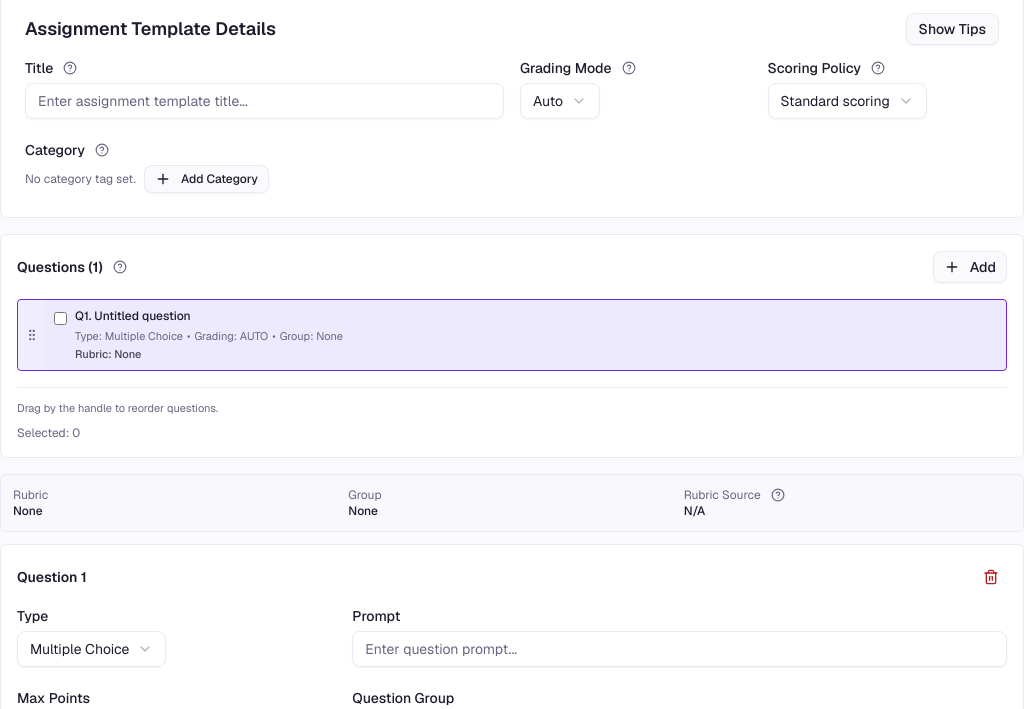
Test: AssignmentTemplateBuilderForm › updates title and clears title error
The width and height of the screenshot is (1024, 709).
Note: Submit to trigger title error
Type "Q1?" into the field with placeholder "Enter question prompt...".
click(680, 649); type("Q1?")  # box [352,631,1007,667]
(page scrolled)
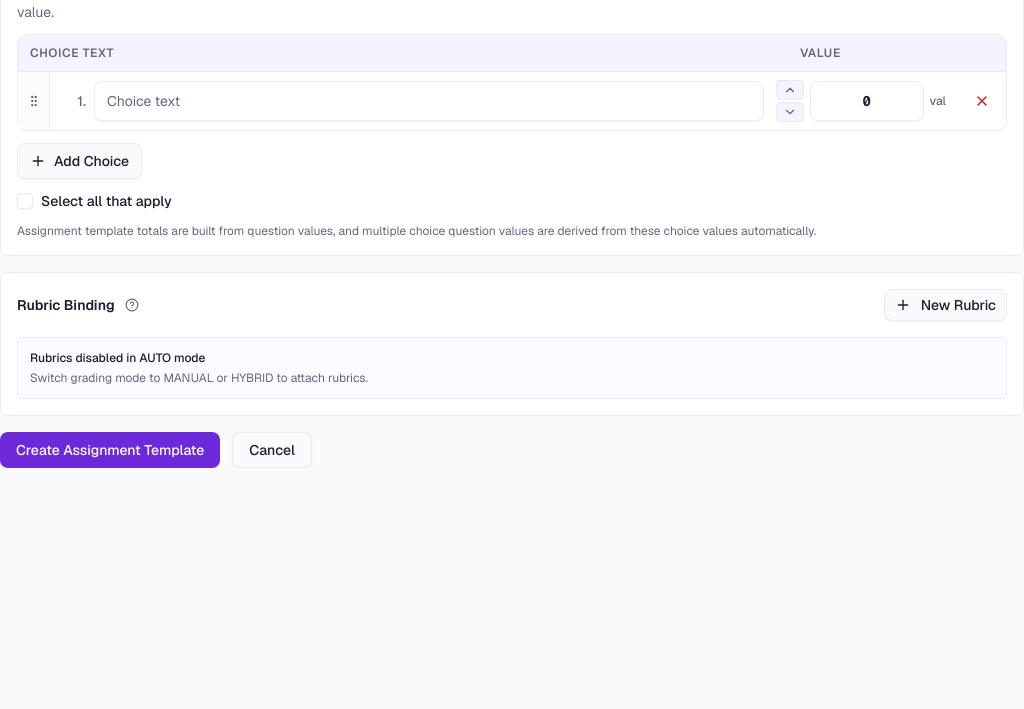
Click the button "Create Assignment Template".
click(110, 450)  # box [0,432,220,468]
(page scrolled)
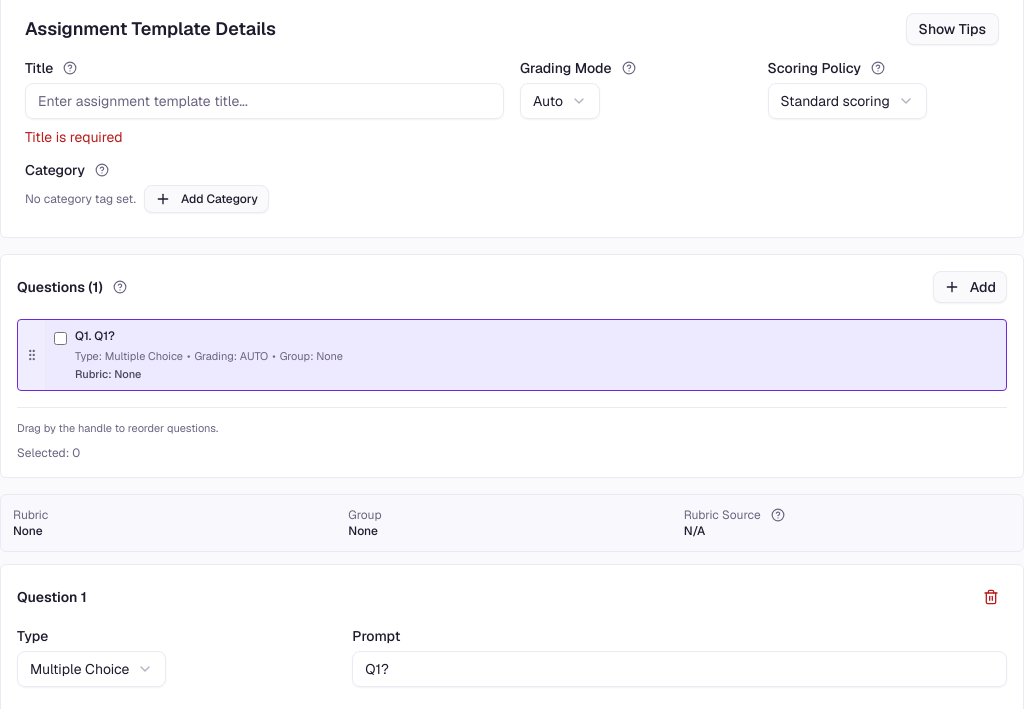
Now the text "Title is required" is shown, box [25,128,123,146]
Note: Type in title to clear error
Type "T" into the field with placeholder "Enter assignment template title...".
click(264, 101); type("T")  # box [25,83,504,119]
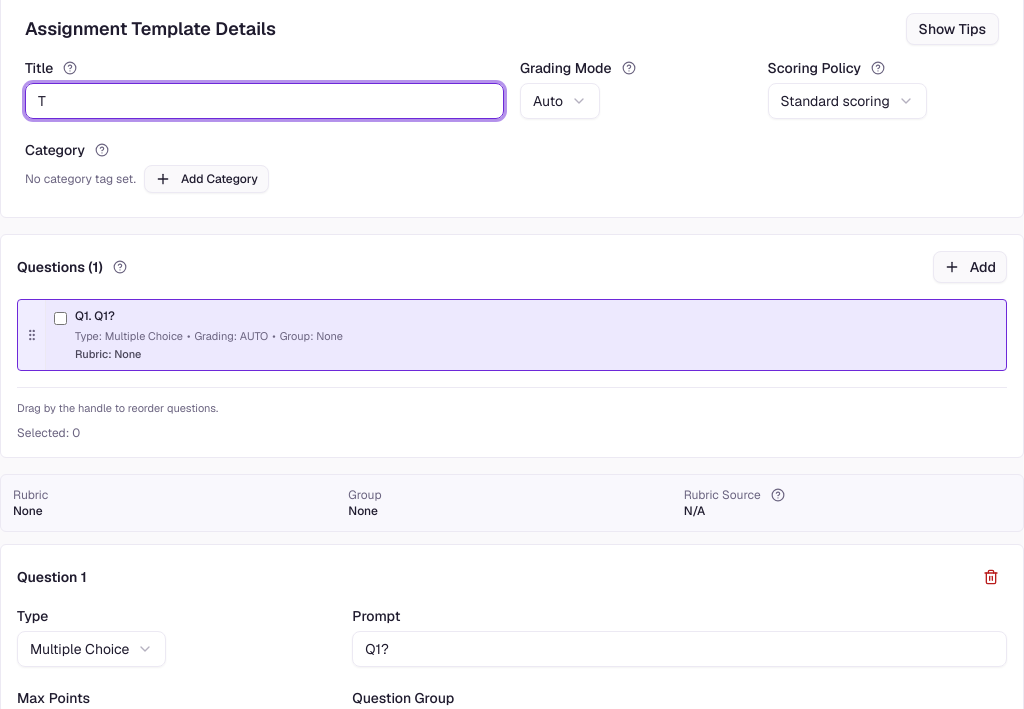
Now the text "Title is required" is gone
